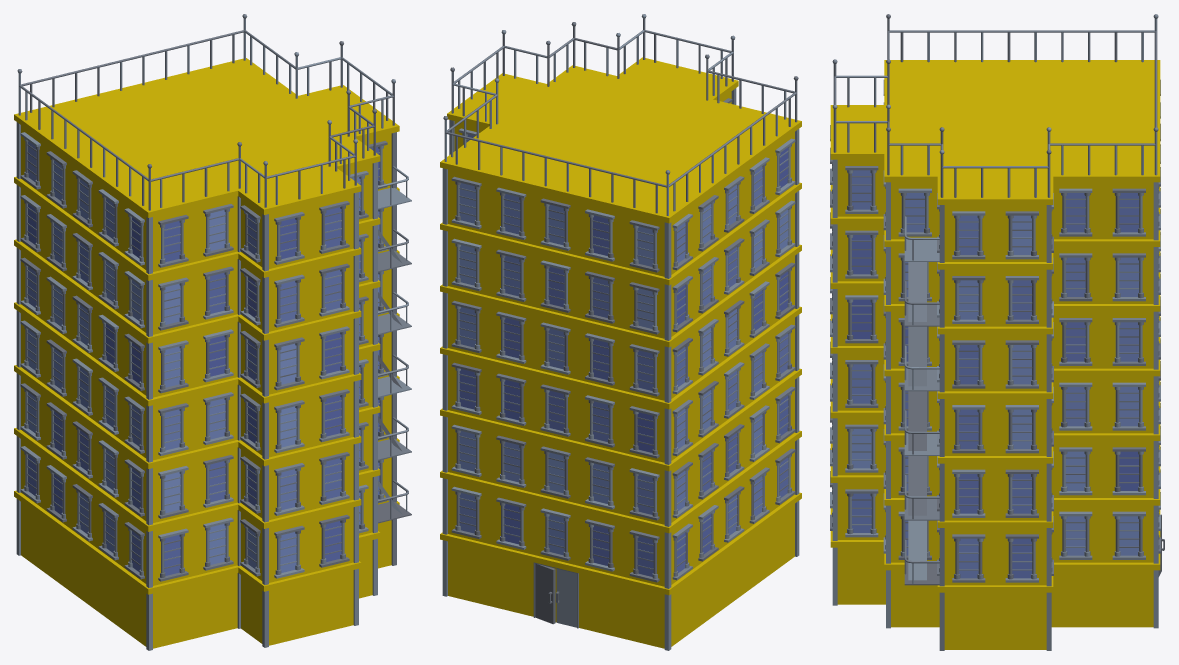
The model's file is Building Procedural.011.fbx.
3 views of the same model, side by side, from view 1: azimuth 30°, elevation 25°; view 2: azimuth 150°, elevation 25°; view 3: azimuth 270°, elevation 25° (orthographic). The views are drawn at different scales.
Visible parts, largest first — view 1: Building Procedural.011; view 2: Building Procedural.011; view 3: Building Procedural.011.
Part boxes in pixels (bbox=[...]): Building Procedural.011: bbox=[14, 14, 411, 650]; Building Procedural.011: bbox=[440, 14, 801, 650]; Building Procedural.011: bbox=[830, 14, 1164, 650].
Size of the model in its own units: 1326 by 2210 by 1341.
